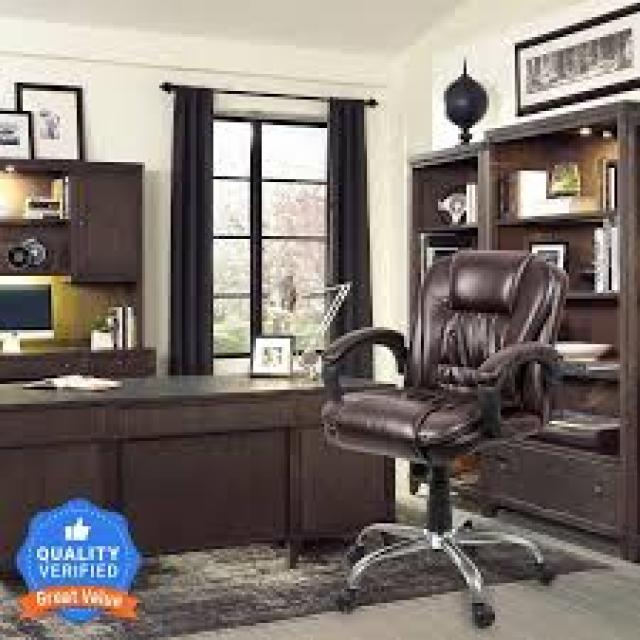chair: (286, 219, 615, 640)
